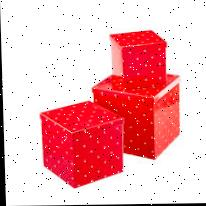cube: (91, 75, 181, 162), (39, 101, 123, 190), (110, 31, 166, 89)
